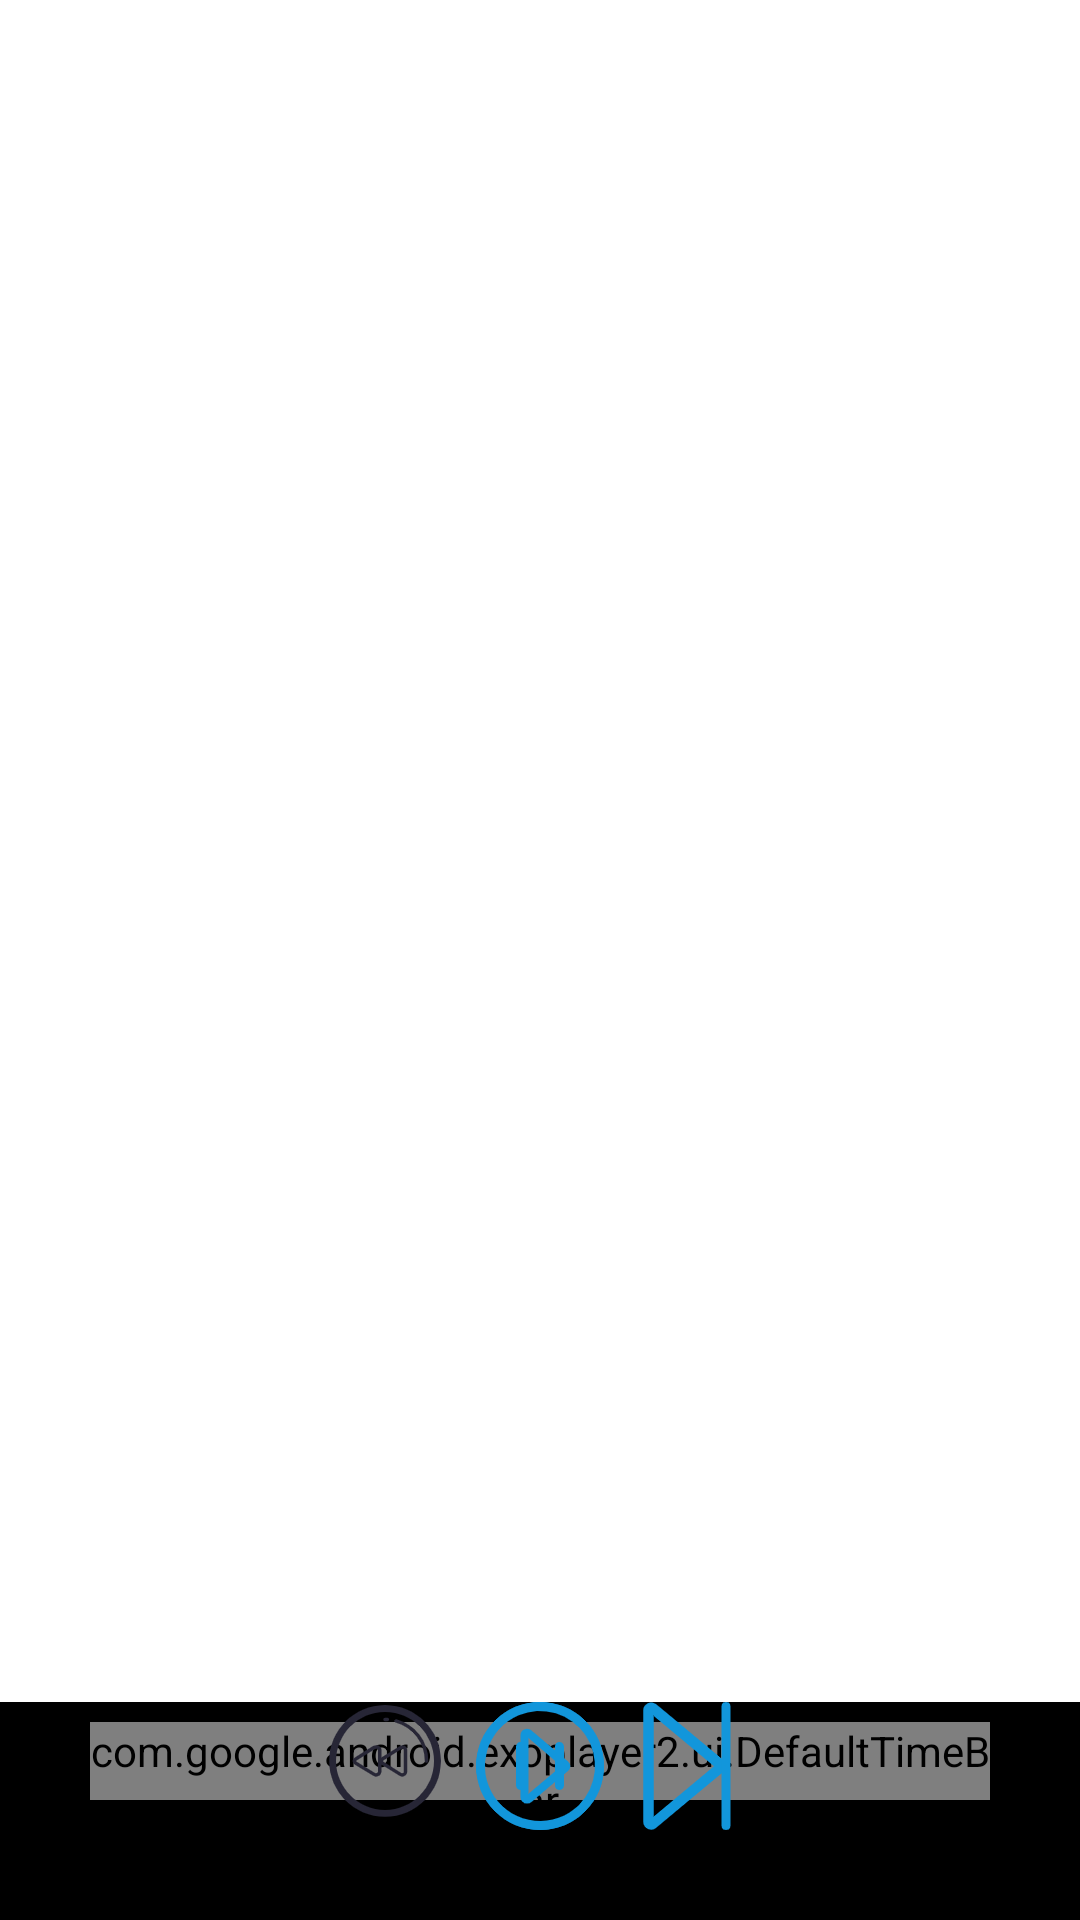

Named icons in this screenshot (1080 x 1920) and their centers, (x=x, y=y):
backward: (x=387, y=1766)
forward: (x=695, y=1766)
